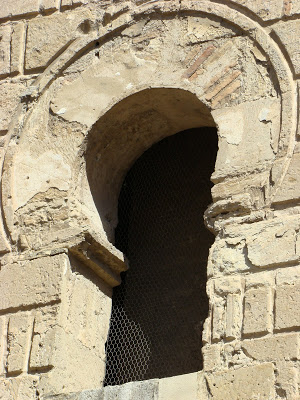arco-herradura: (1, 1, 300, 270)
